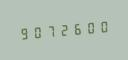nine: (17, 24, 29, 42)
seven: (43, 21, 55, 40)
six: (69, 19, 81, 38)
two: (56, 20, 68, 39)
zero: (30, 22, 42, 41), (82, 18, 94, 37), (95, 17, 107, 36)
